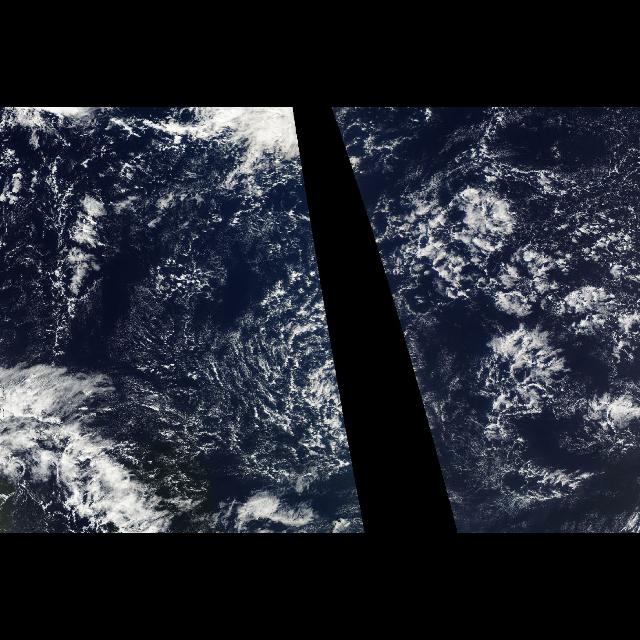Fish: (479, 325, 577, 451)
Gravel: (104, 240, 362, 504)
Sugar: (120, 229, 358, 531)
